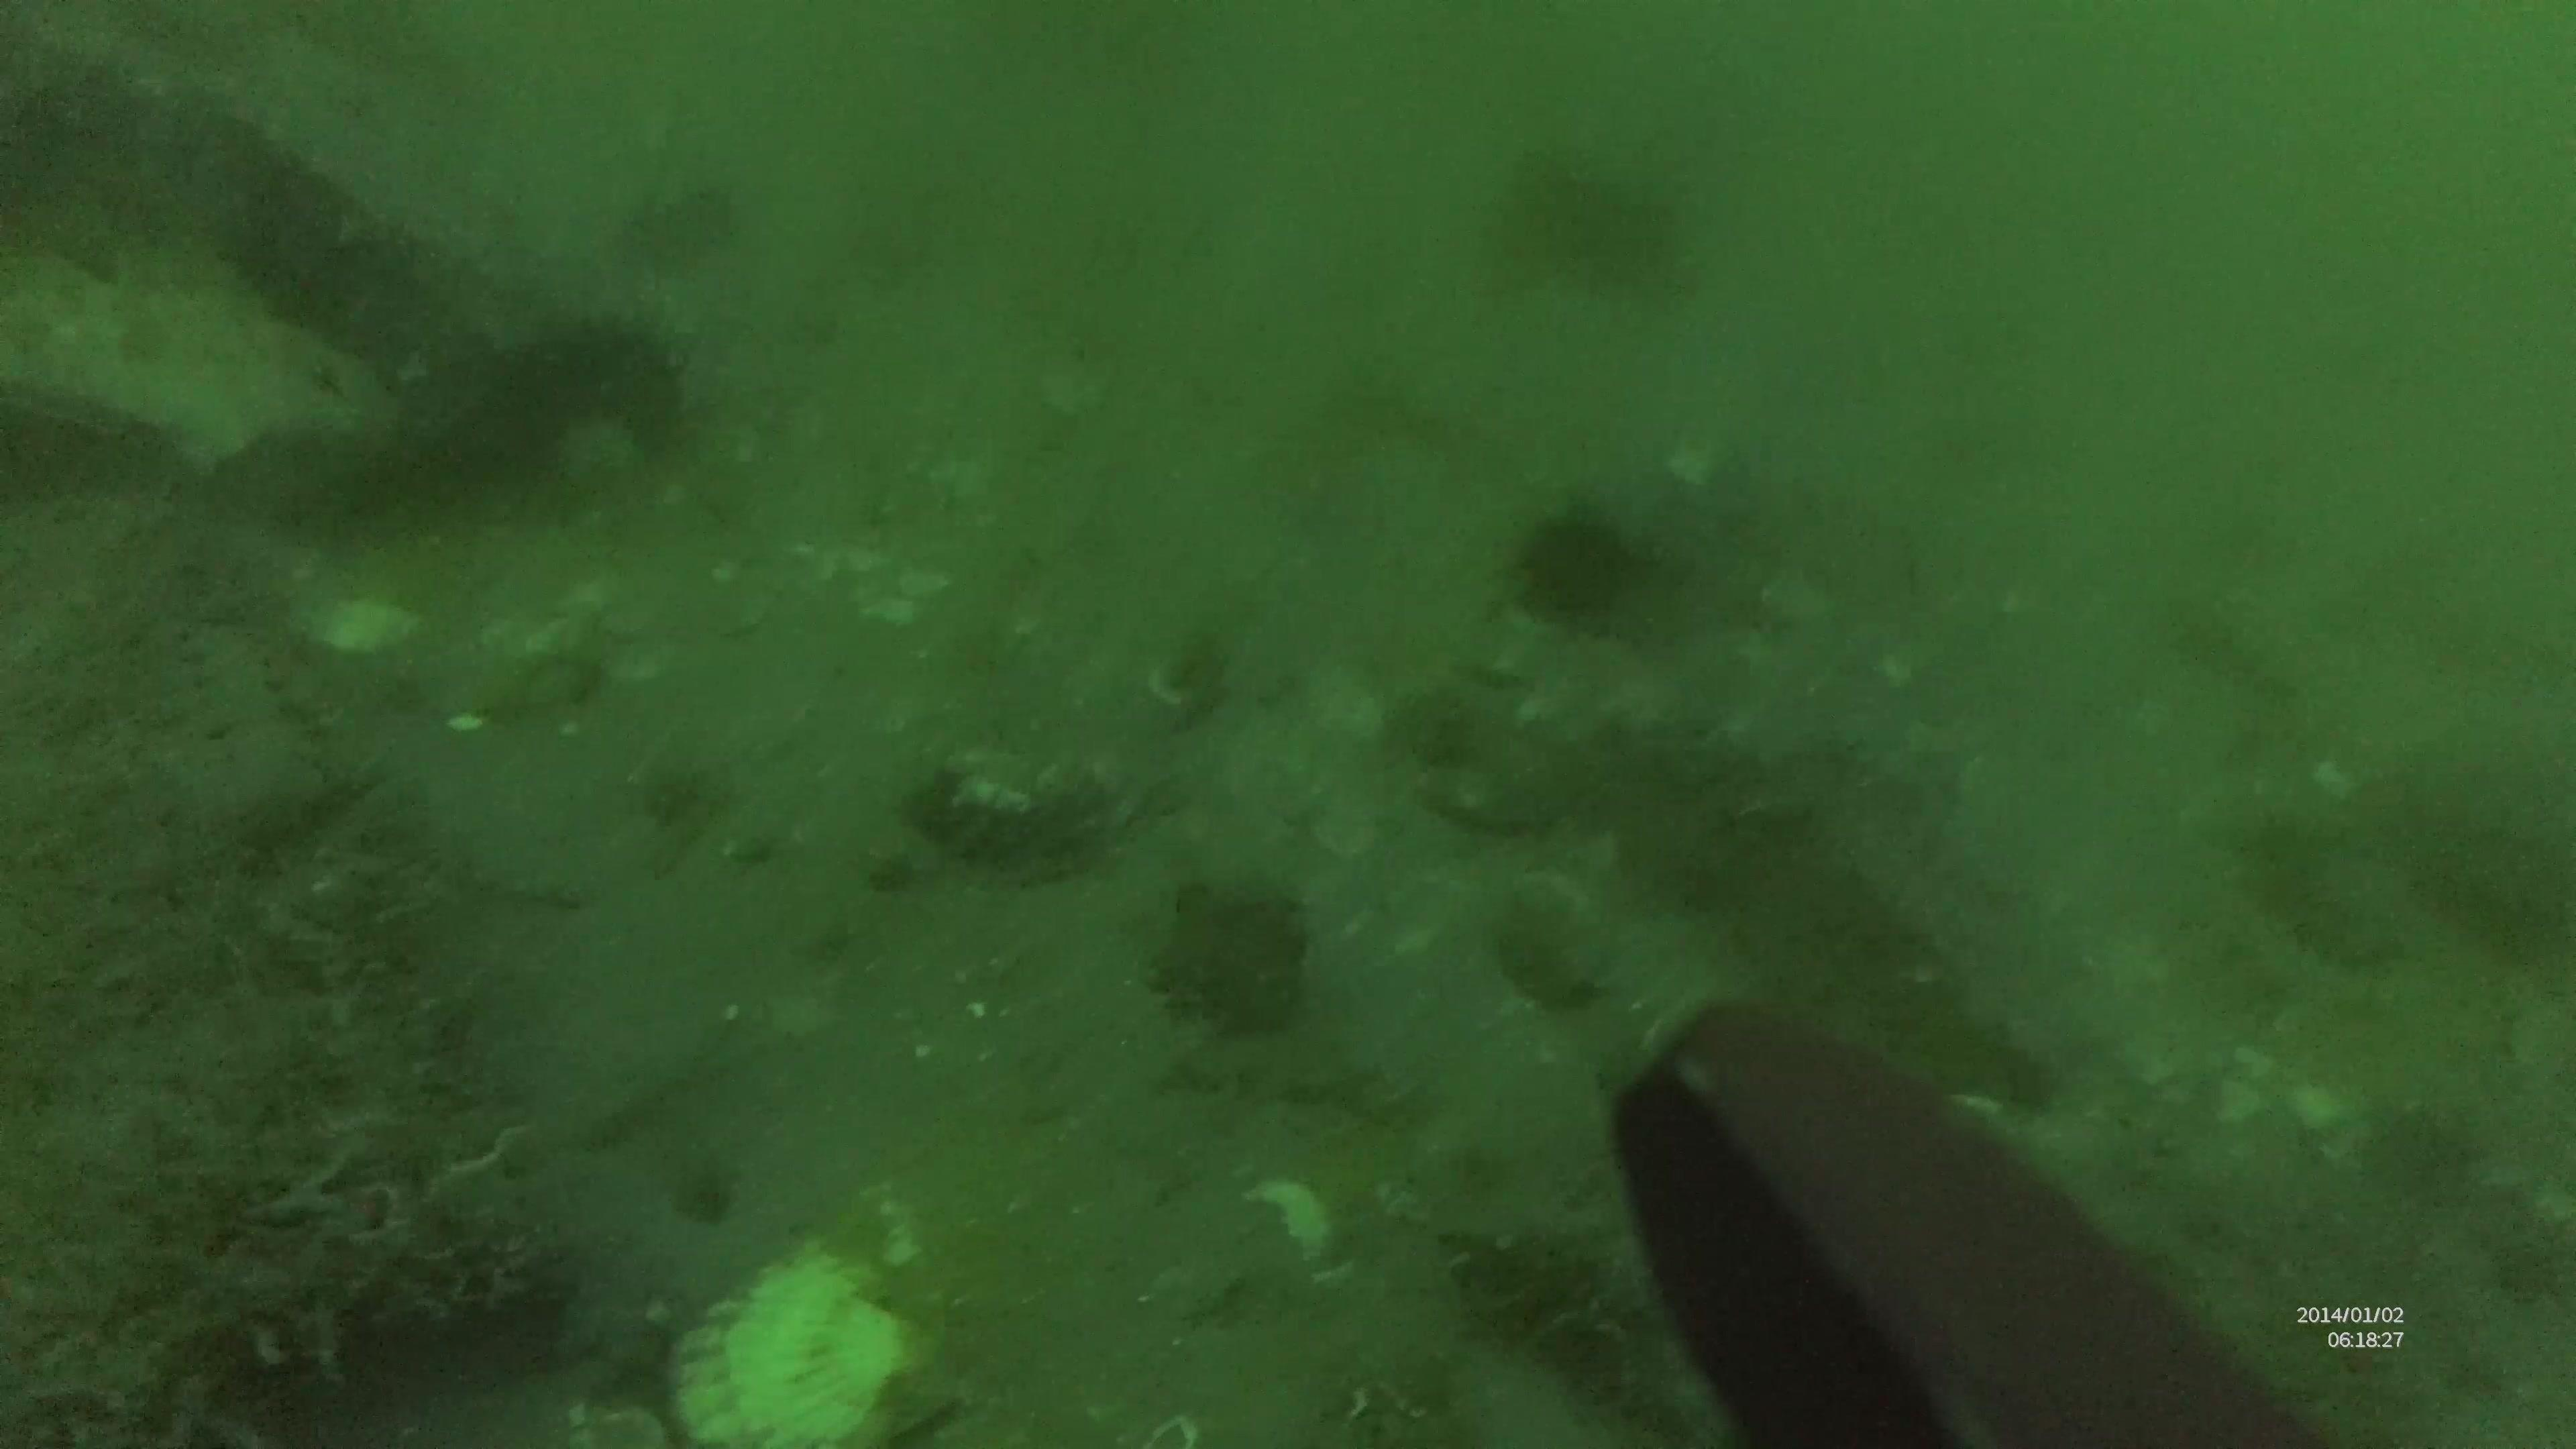echinus: (1506, 506, 1652, 632)
scallop: (681, 1198, 973, 1449)
